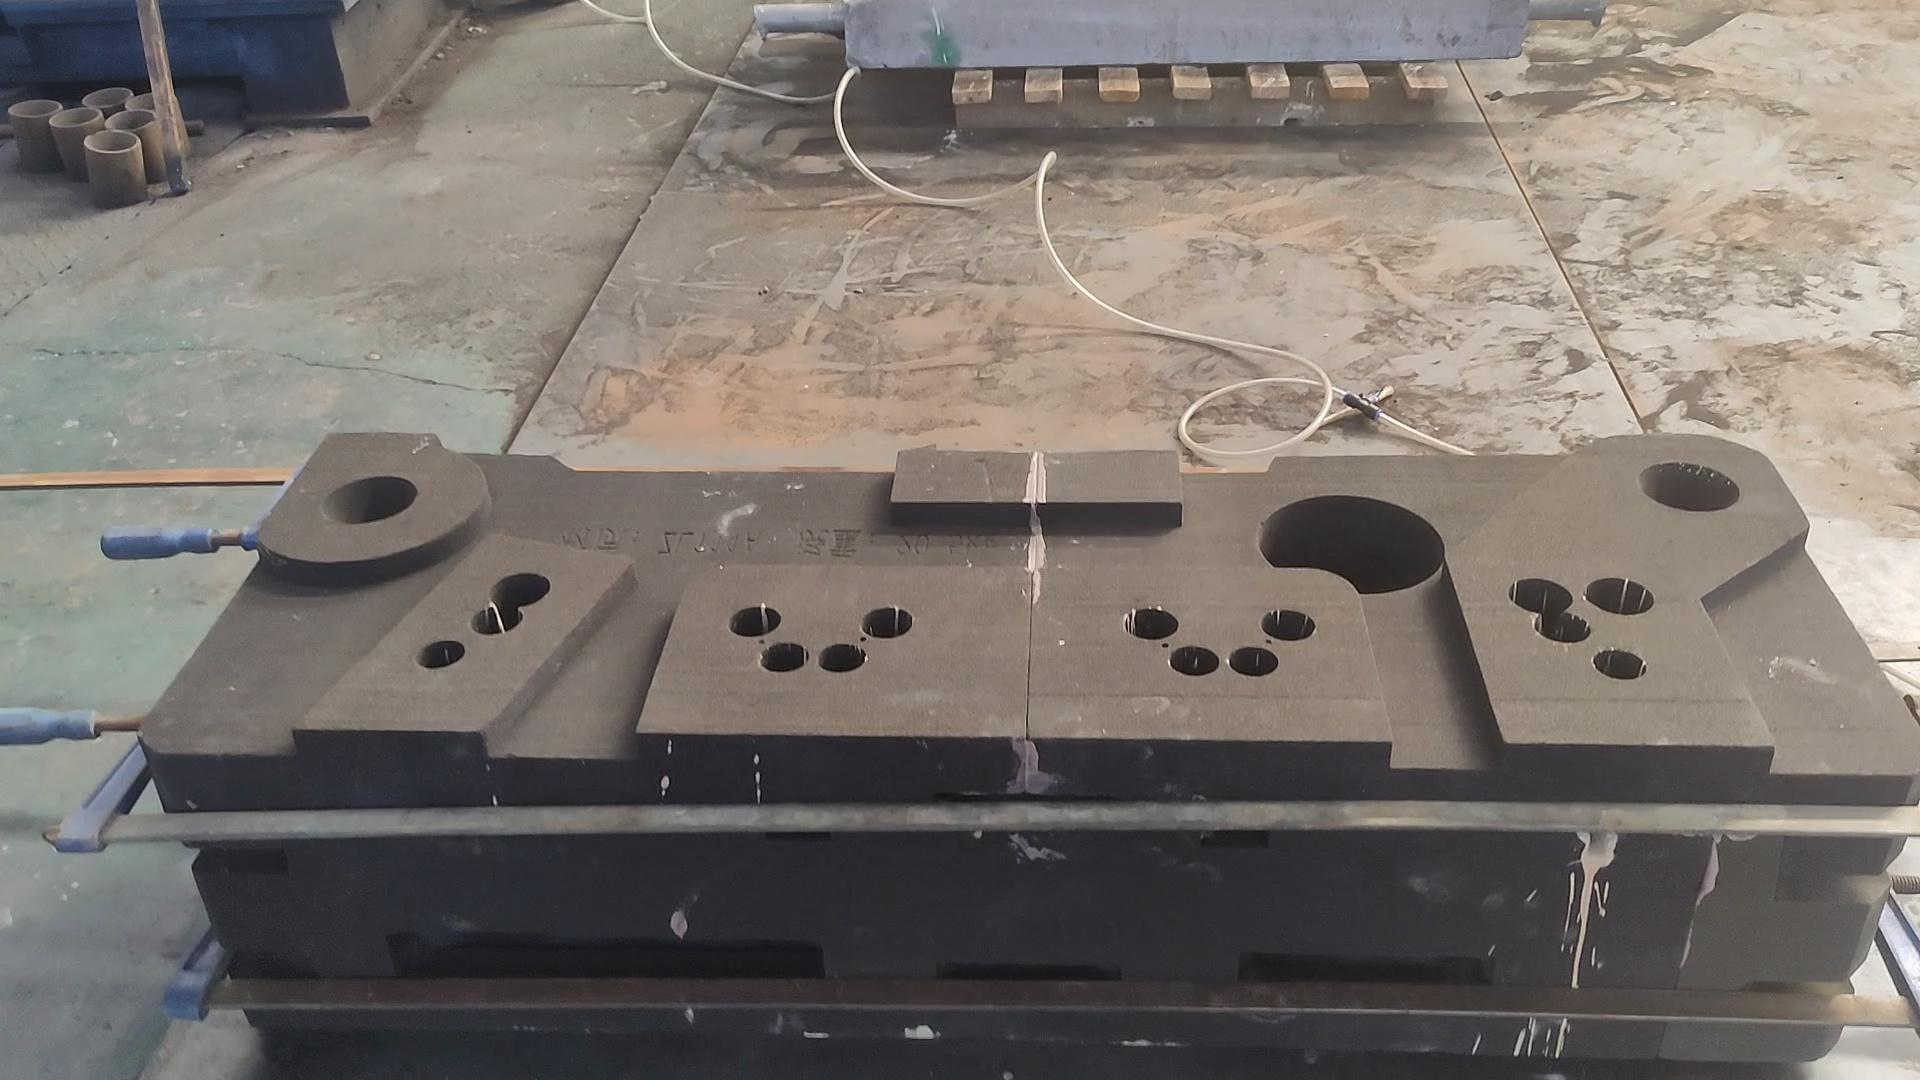pouring hole: (1639, 462, 1739, 512), (322, 475, 419, 524), (83, 129, 138, 153), (80, 87, 132, 108), (104, 109, 156, 131), (124, 92, 175, 113), (47, 107, 102, 127), (8, 100, 61, 116)
